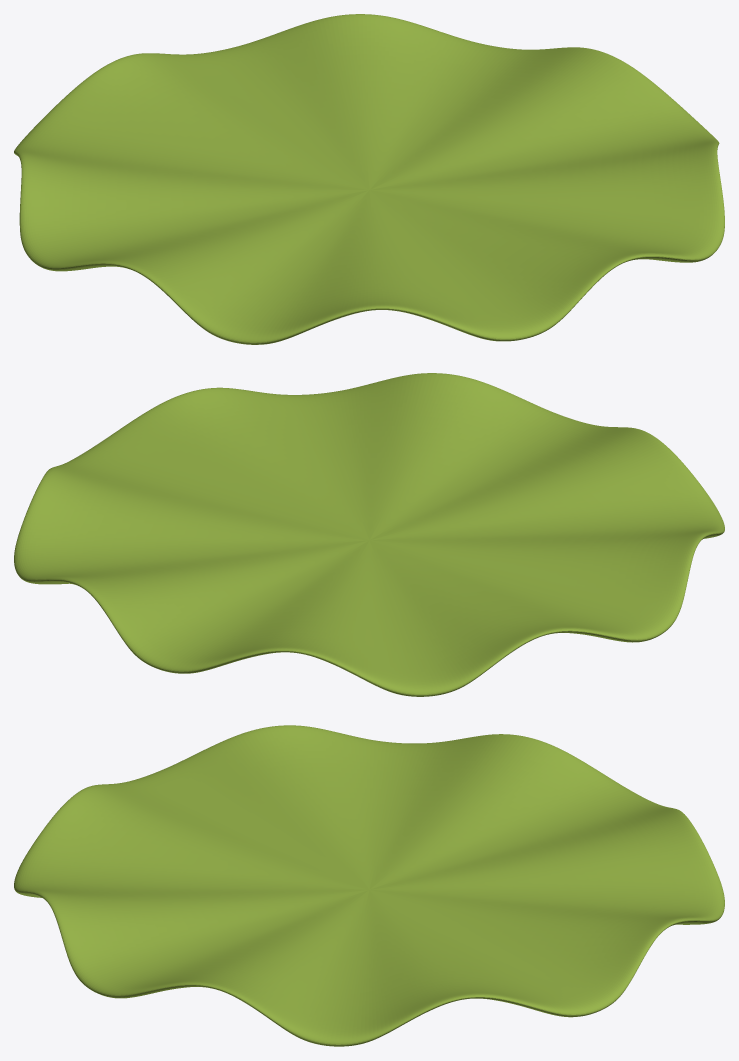
The model's file is salad.fbx.
The picture shows the model from 3 angles, top to bottom: view 1: azimuth 30°, elevation 25°; view 2: azimuth 150°, elevation 25°; view 3: azimuth 270°, elevation 25°; orthographic projection. The views are drawn at different scales.
Visible parts, largest first — view 1: salatica; view 2: salatica; view 3: salatica.
Part boxes in pixels (x1,y1,x2,y2): salatica: (14,14,724,344); salatica: (14,373,724,696); salatica: (14,725,724,1046).
Bounding box in the file's own units: 275 × 17.41 × 275.
